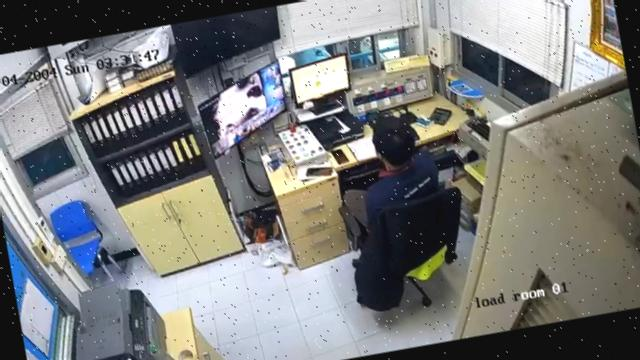Head: (372, 116, 416, 169)
People: (343, 117, 438, 233)
Phone: (304, 168, 332, 177), (330, 150, 349, 163)
